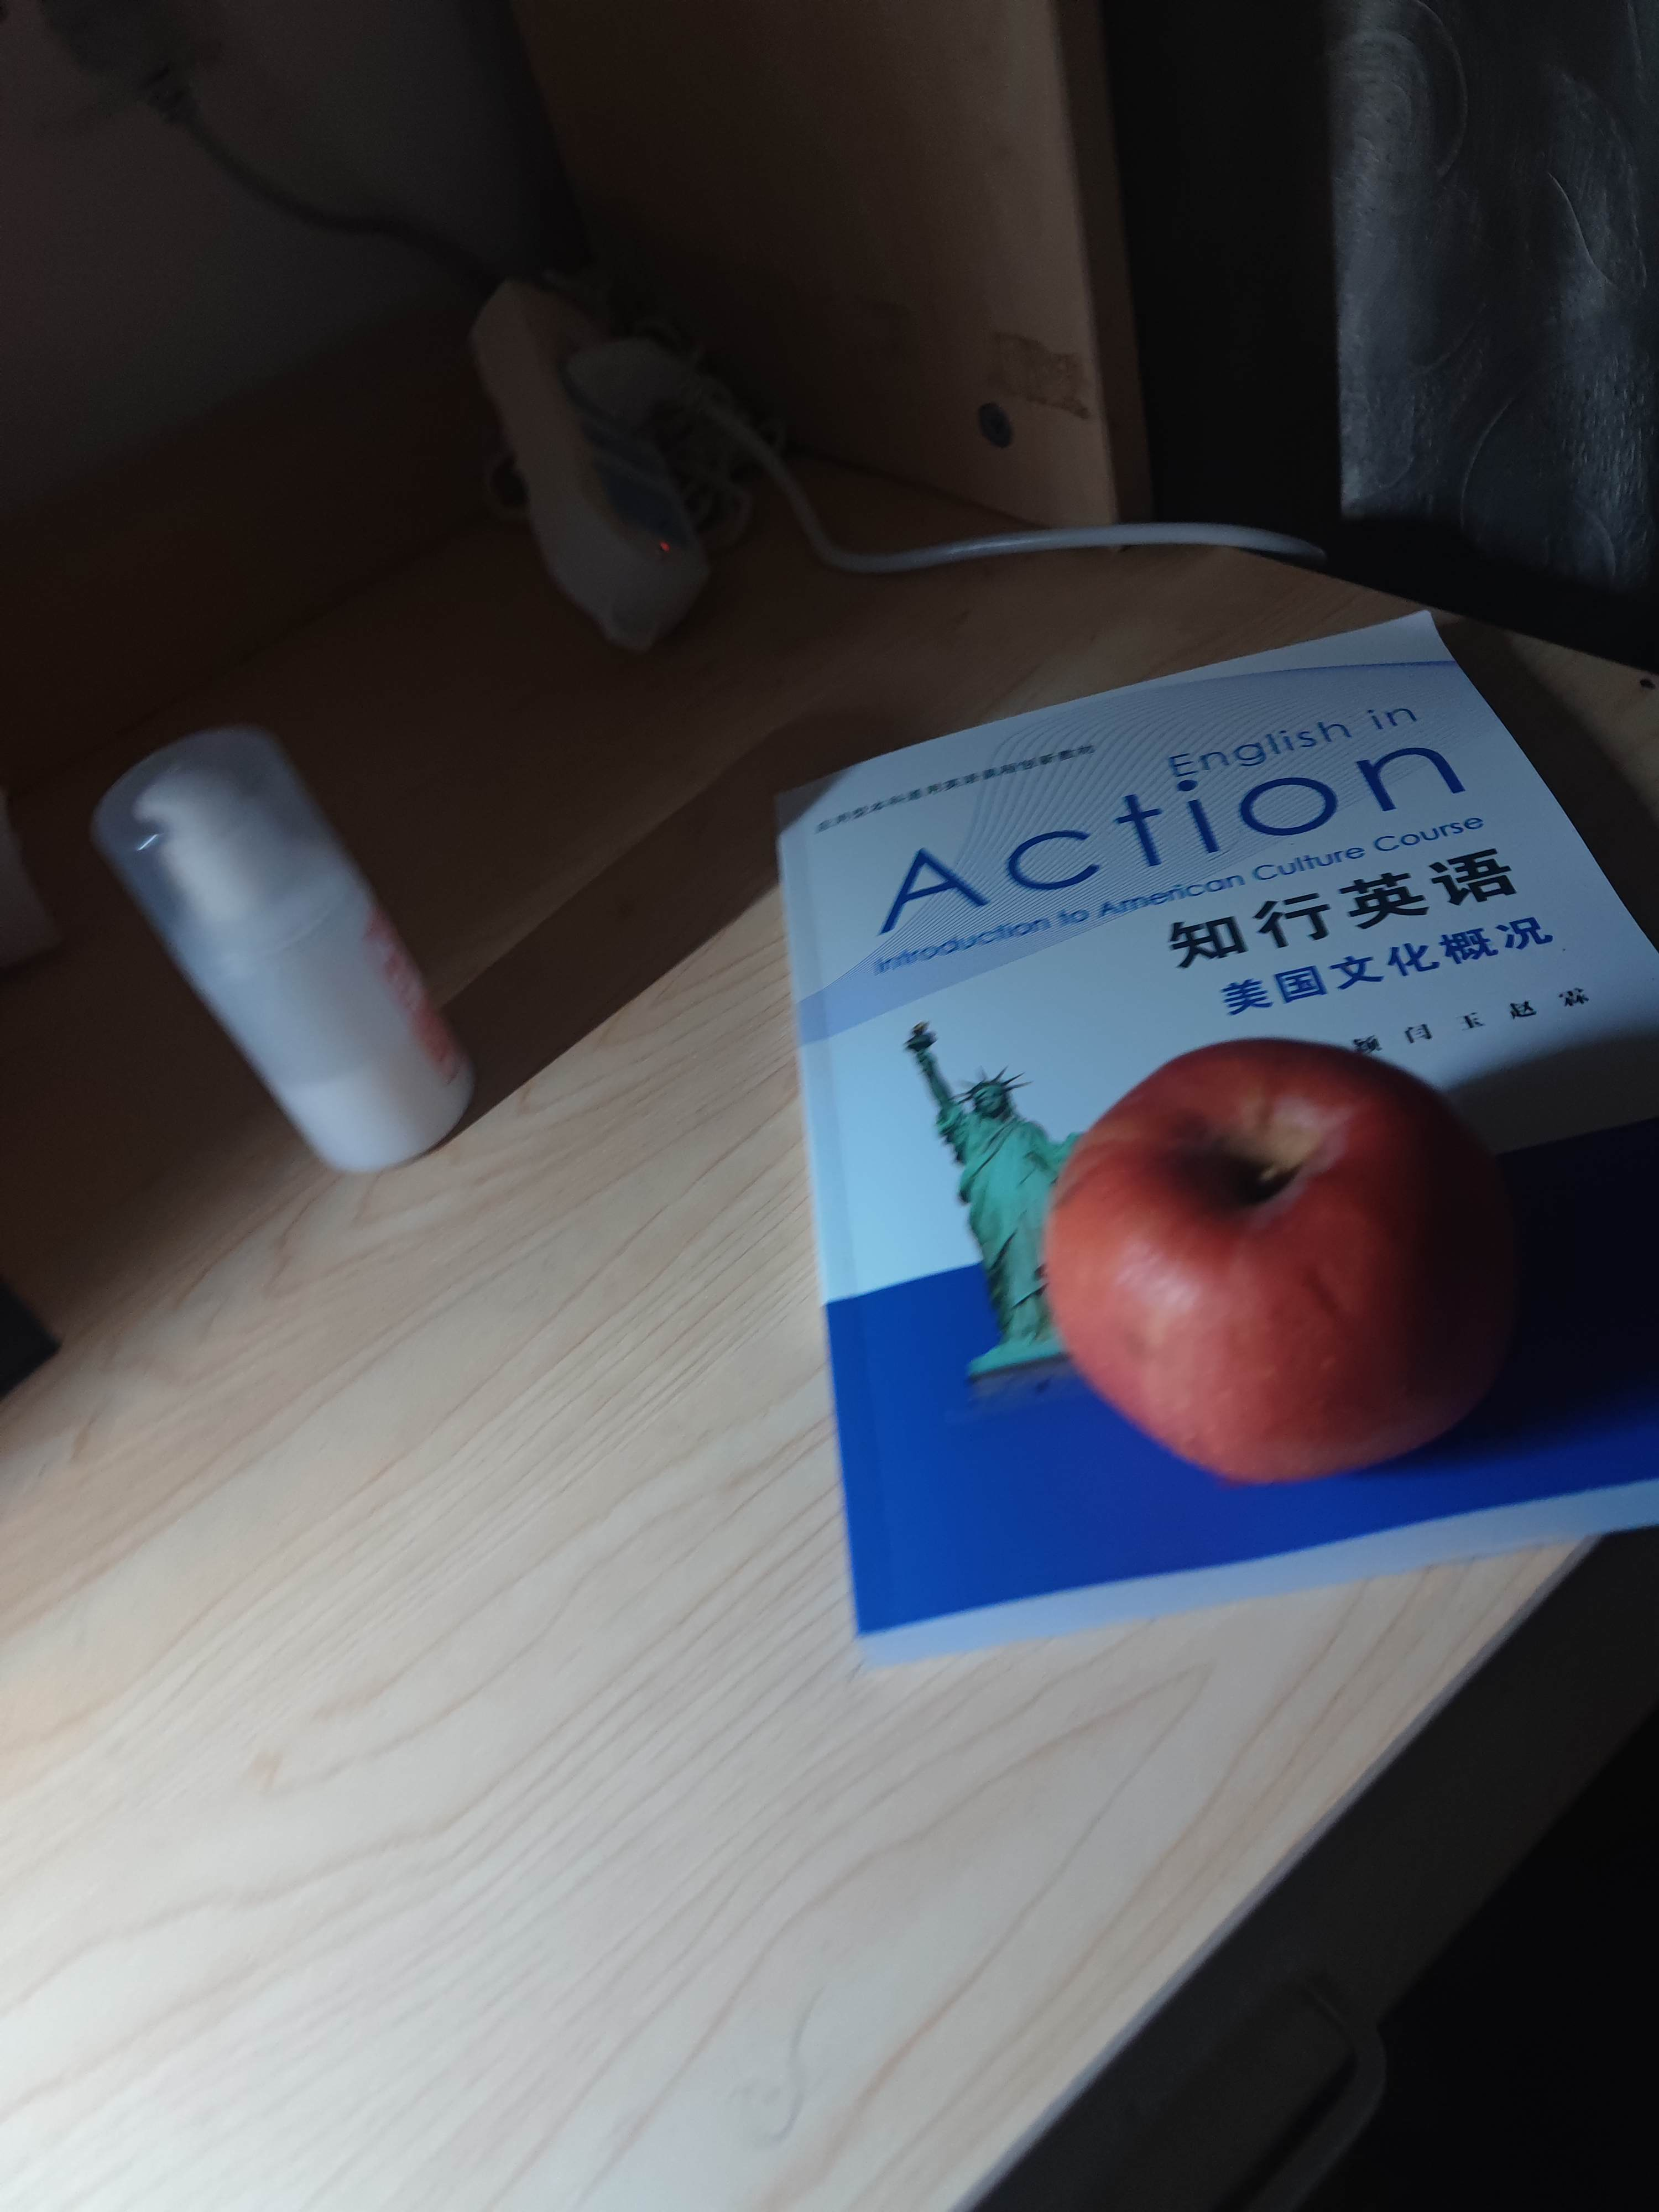apple: (1049, 1042, 1523, 1498)
